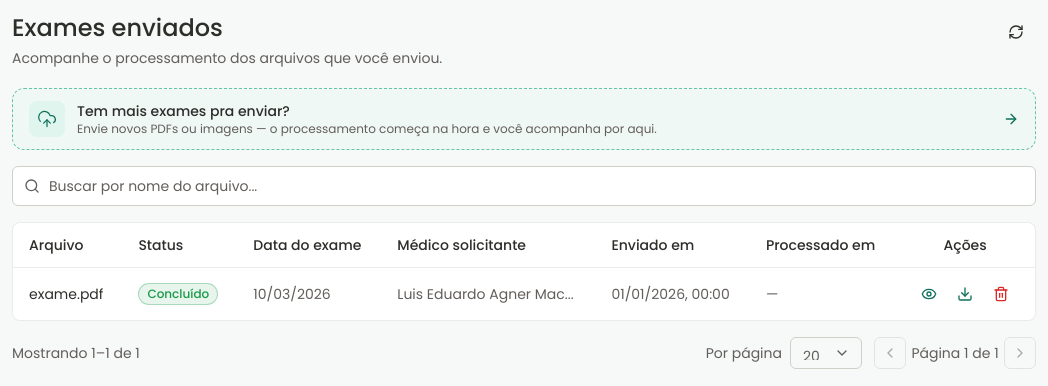
Test: SentExamsView — colunas de data do exame e médico solicitante › médico com nome longo: corta na exibição e mostra o nome inteiro no tooltip
Check: the cell "Luis Eduardo Agner Mac..." is shown, box 381,268 -> 595,320
Note: O tooltip só entra no DOM durante o hover (ver ui/tooltip.tsx) — pairar é parte do teste.
Hover over the text with class "cursor-default" at (485, 294), box 397,284 -> 574,304
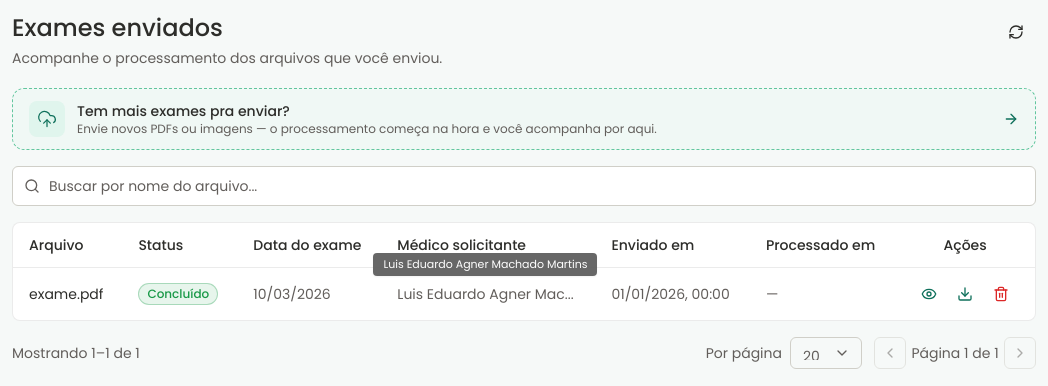
Check: the tooltip reads "Luis Eduardo Agner Machado Martins", box 384,256 -> 588,272
